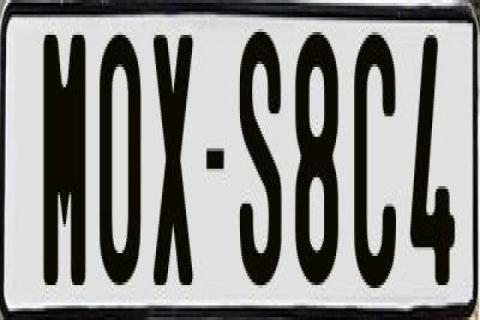0: (292, 26, 342, 294), (408, 29, 454, 282), (96, 27, 138, 286)
C: (352, 32, 400, 296)
M: (40, 35, 90, 285)
S: (238, 32, 286, 300)
X: (152, 26, 194, 291)
